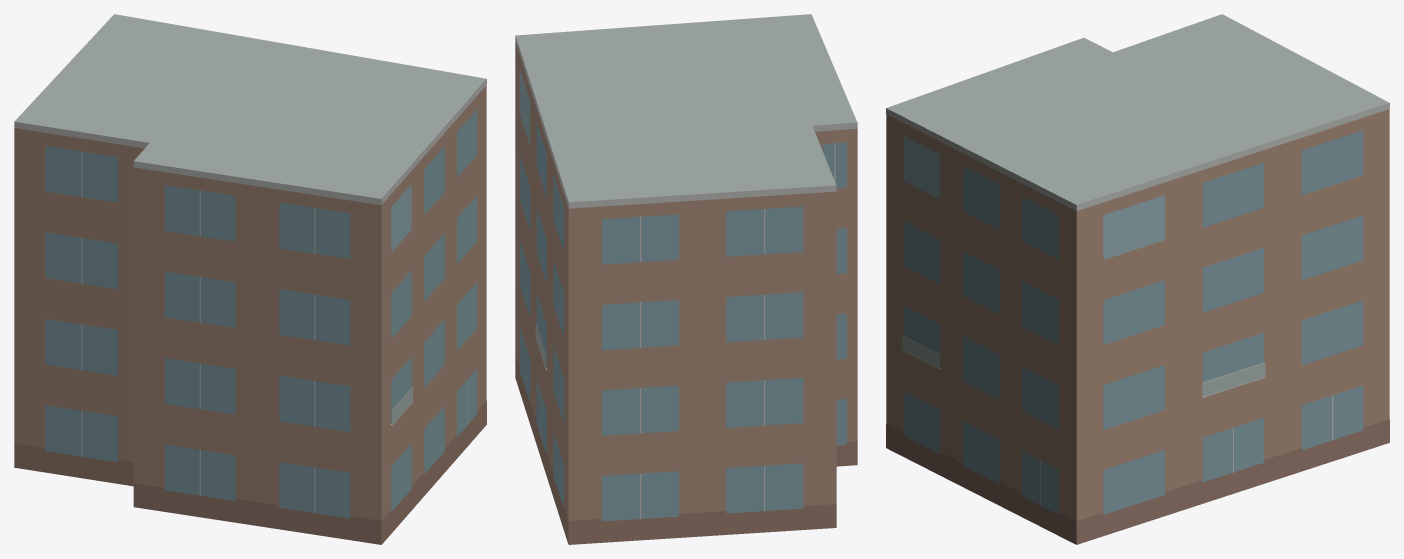
The model's file is survey-upis-32730998.glb.
3 views of the same model, side by side, from view 1: azimuth 30°, elevation 25°; view 2: azimuth 150°, elevation 25°; view 3: azimuth 270°, elevation 25° (orthographic).
Visible parts, largest first — view 1: survey-upis-32730998.tmp; view 2: survey-upis-32730998.tmp; view 3: survey-upis-32730998.tmp.
Boxes of the visible parts, bbox=[...] form: survey-upis-32730998.tmp: bbox=[14, 14, 486, 544]; survey-upis-32730998.tmp: bbox=[515, 14, 857, 544]; survey-upis-32730998.tmp: bbox=[886, 14, 1389, 544].
Bounding box in the file's own units: 16.16 × 13.4 × 18.01.
